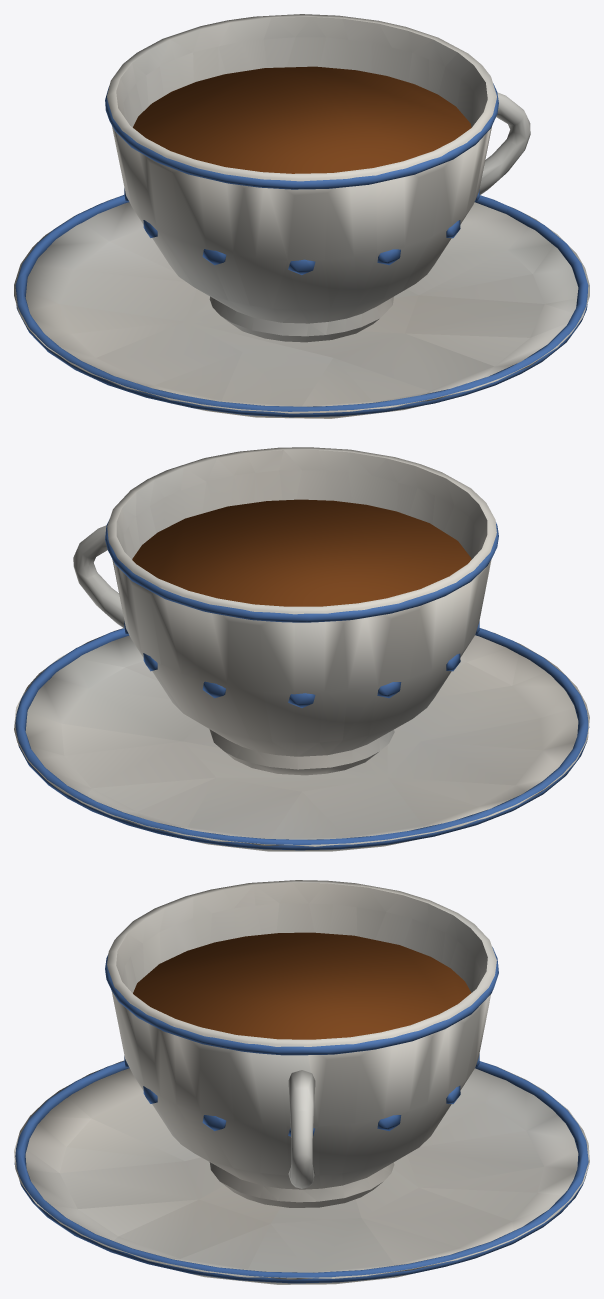
File: frost_teacup_lod1.glb
3 renders of one model, top to bottom at view 1: azimuth 30°, elevation 25°; view 2: azimuth 150°, elevation 25°; view 3: azimuth 270°, elevation 25°, orthographic.
Visible parts, largest first — view 1: frost_teacup.001; view 2: frost_teacup.001; view 3: frost_teacup.001.
Boxes of the visible parts, x1=… form: frost_teacup.001: x1=14, y1=14, x2=589, y2=418; frost_teacup.001: x1=14, y1=447, x2=589, y2=851; frost_teacup.001: x1=14, y1=880, x2=589, y2=1284.
Bounding box in the file's own units: 46.78 × 21.1 × 46.78.
